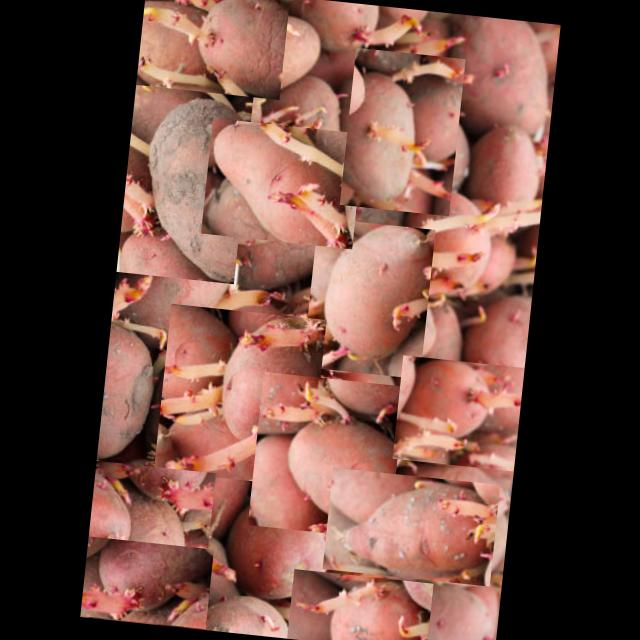Sprouted potato: (154, 302, 326, 486), (116, 60, 256, 282), (248, 371, 404, 538), (113, 216, 284, 346), (302, 216, 435, 378), (200, 117, 364, 248), (340, 46, 466, 215), (322, 466, 500, 585), (84, 459, 215, 592), (392, 354, 524, 470), (136, 0, 290, 98), (408, 176, 518, 295), (80, 535, 214, 628), (286, 568, 433, 640)
